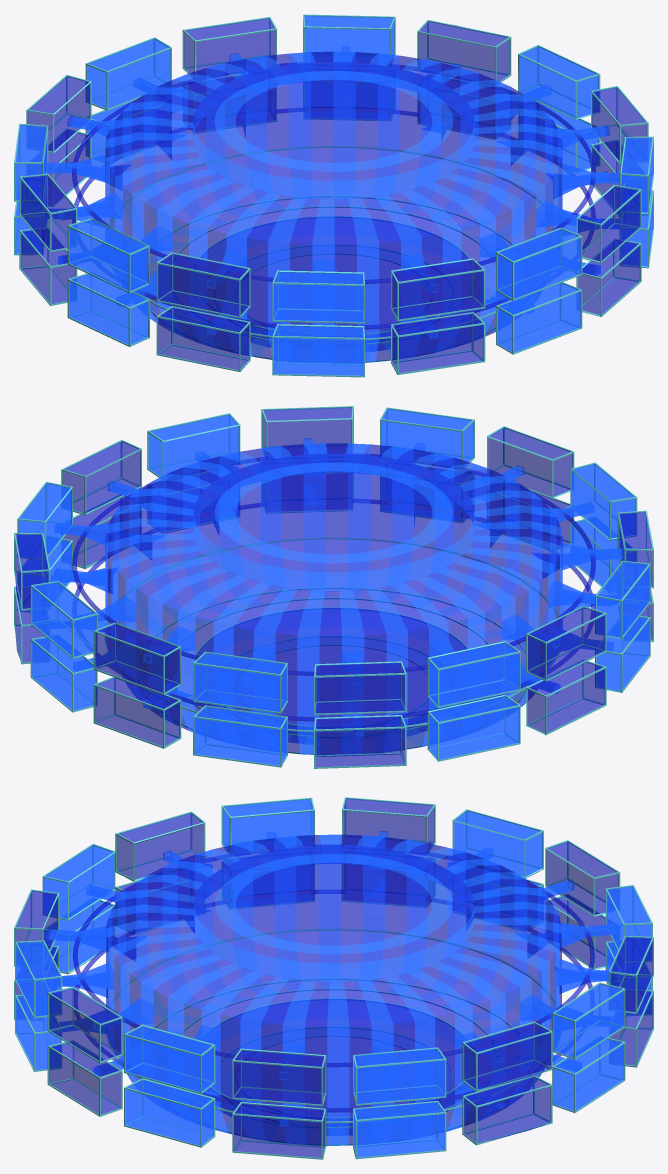
The picture shows the model from 3 angles, top to bottom: view 1: azimuth 30°, elevation 25°; view 2: azimuth 150°, elevation 25°; view 3: azimuth 270°, elevation 25°; orthographic projection.
Visible parts, largest first — view 1: Object004, Cylinder001, Shape004, Shape003; view 2: Object004, Cylinder001, Shape004, Shape003; view 3: Object004, Cylinder001, Shape004, Shape003.
Boxes of the visible parts, <box> form: Object004: <box>44,46,625,362</box>; Cylinder001: <box>15,15,653,375</box>; Shape004: <box>14,14,653,377</box>; Shape003: <box>72,61,595,329</box>; Object004: <box>43,438,624,754</box>; Cylinder001: <box>15,407,652,766</box>; Shape004: <box>14,406,653,768</box>; Shape003: <box>72,453,595,721</box>; Object004: <box>46,831,621,1145</box>; Cylinder001: <box>15,798,652,1157</box>; Shape004: <box>14,797,653,1159</box>; Shape003: <box>73,844,594,1112</box>.
Bounding box in the file's own units: 4.57 × 1.37 × 4.57.
